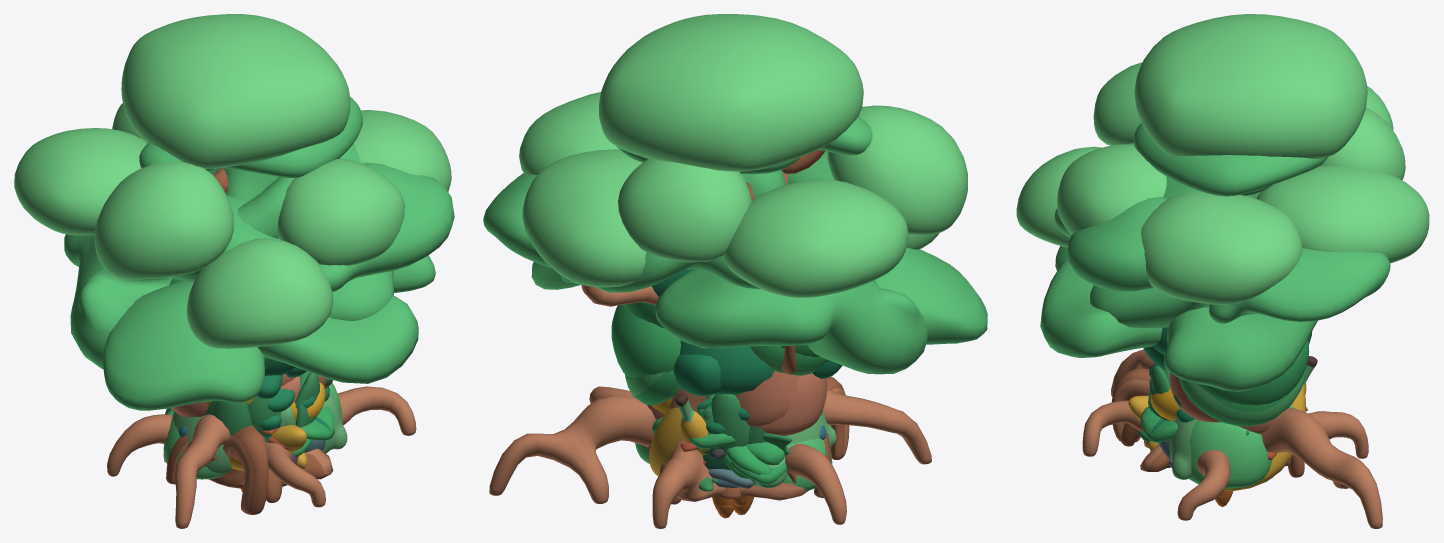
Rendered from party-started-v1.glb.
3 views of the same model, side by side, from view 1: azimuth 30°, elevation 25°; view 2: azimuth 150°, elevation 25°; view 3: azimuth 270°, elevation 25° (orthographic). The views are drawn at different scales.
Parts seen in each view (by area): view 1: TreeGiant_B_01_LOD0.003, TreeGiant_A_01_LOD0.003, TreeGiant_A_02_LOD0.003, Bush_Berry_02_LOD0.003, Broccoli_06_LOD0.003, Tree_E_01_LOD0.003, Herb_A_02_LOD0.003, Banana_01_LOD0.003, Broccoli_04_LOD0.003, Pine_05_LOD0.003, Cauliflower_05_LOD0.003, FlowerBush_A_03_LOD0.003; view 2: TreeGiant_B_01_LOD0.003, TreeGiant_A_01_LOD0.003, TreeGiant_A_02_LOD0.003, Tree_Top_B_02_LOD0.003, Tree_Top_C_02_LOD0.003, Tree_Top_A_01_LOD0.003, Shrub_Top_B_03_LOD0.003, Shrub_Top_B_02_LOD0.003, Tree_Top_A_02_LOD0.003, Cauliflower_04_LOD0.003, Bananacomb_03_LOD0.003, Bush_Berry_02_LOD0.003 (+5 smaller); view 3: TreeGiant_B_01_LOD0.003, TreeGiant_A_01_LOD0.003, TreeGiant_A_02_LOD0.003, FlowerBush_A_03_LOD0.003, Tree_Top_C_02_LOD0.003, Tree_Top_B_02_LOD0.003, Bush_Berry_02_LOD0.003, Herb_A_02_LOD0.003, Bananacomb_03_LOD0.003, Shrub_Top_B_02_LOD0.003, Shrub_Top_A_03_LOD0.003, Banana_01_LOD0.003 (+1 smaller).
Boxes of the visible parts, x1,y1,x2,y2 form: TreeGiant_B_01_LOD0.003: (14, 14, 451, 528); TreeGiant_A_01_LOD0.003: (64, 97, 454, 502); TreeGiant_A_02_LOD0.003: (103, 143, 393, 514); Bush_Berry_02_LOD0.003: (173, 389, 347, 474); Broccoli_06_LOD0.003: (213, 371, 316, 436); Tree_E_01_LOD0.003: (208, 167, 278, 201); Herb_A_02_LOD0.003: (294, 406, 334, 440); Banana_01_LOD0.003: (272, 425, 306, 452); Broccoli_04_LOD0.003: (248, 395, 280, 436); Pine_05_LOD0.003: (256, 367, 306, 398); Cauliflower_05_LOD0.003: (205, 373, 319, 414); FlowerBush_A_03_LOD0.003: (163, 382, 341, 462); TreeGiant_B_01_LOD0.003: (489, 14, 967, 528); TreeGiant_A_01_LOD0.003: (531, 146, 927, 504); TreeGiant_A_02_LOD0.003: (483, 116, 987, 459); Tree_Top_B_02_LOD0.003: (611, 304, 819, 377); Tree_Top_C_02_LOD0.003: (625, 346, 824, 405); Tree_Top_A_01_LOD0.003: (679, 340, 774, 394); Shrub_Top_B_03_LOD0.003: (647, 370, 800, 426); Shrub_Top_B_02_LOD0.003: (757, 373, 827, 435); Tree_Top_A_02_LOD0.003: (673, 354, 842, 396); Cauliflower_04_LOD0.003: (711, 394, 749, 454); Bananacomb_03_LOD0.003: (649, 407, 682, 476); Bush_Berry_02_LOD0.003: (751, 411, 836, 488); TreeGiant_B_01_LOD0.003: (1016, 14, 1429, 528); TreeGiant_A_01_LOD0.003: (1040, 123, 1327, 477); TreeGiant_A_02_LOD0.003: (1055, 176, 1390, 478); FlowerBush_A_03_LOD0.003: (1189, 420, 1272, 488); Tree_Top_C_02_LOD0.003: (1179, 365, 1306, 426); Tree_Top_B_02_LOD0.003: (1197, 339, 1309, 405); Bush_Berry_02_LOD0.003: (1169, 418, 1197, 479); Herb_A_02_LOD0.003: (1140, 406, 1177, 442); Bananacomb_03_LOD0.003: (1148, 384, 1305, 490); Shrub_Top_B_02_LOD0.003: (1169, 372, 1220, 422); Shrub_Top_A_03_LOD0.003: (1150, 388, 1180, 420); Banana_01_LOD0.003: (1128, 356, 1317, 420).
Size of what is drawn, in the model's own units: 19.19 by 22.79 by 18.28.
2 materials, 2 textured.
